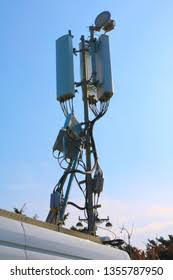sa: (77, 30, 117, 118), (47, 26, 83, 116)
